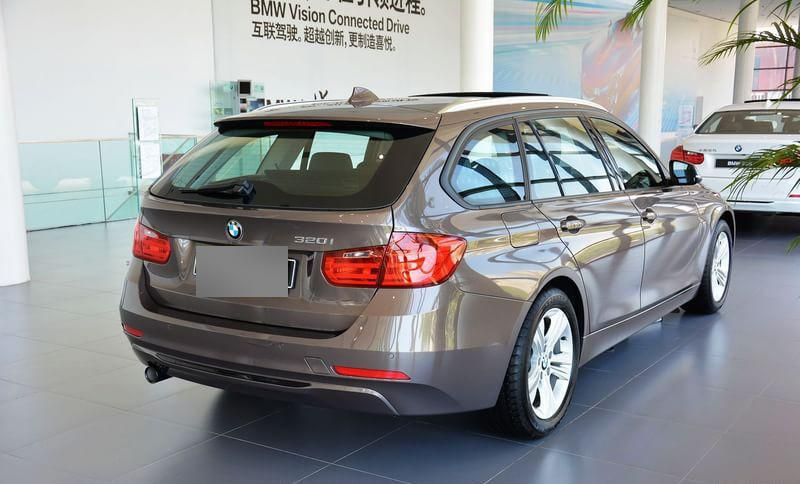Wagon: (118, 85, 737, 441)
